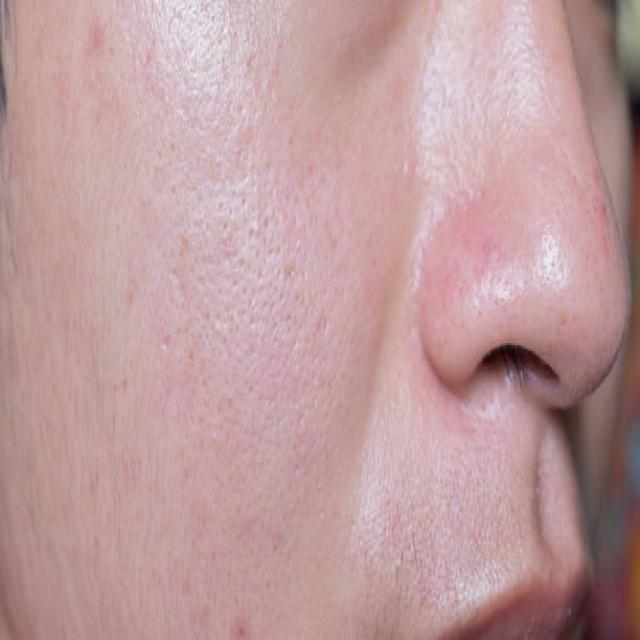Dry-Skin: (420, 38, 580, 567), (85, 377, 266, 640), (221, 115, 338, 440), (57, 55, 174, 294)
